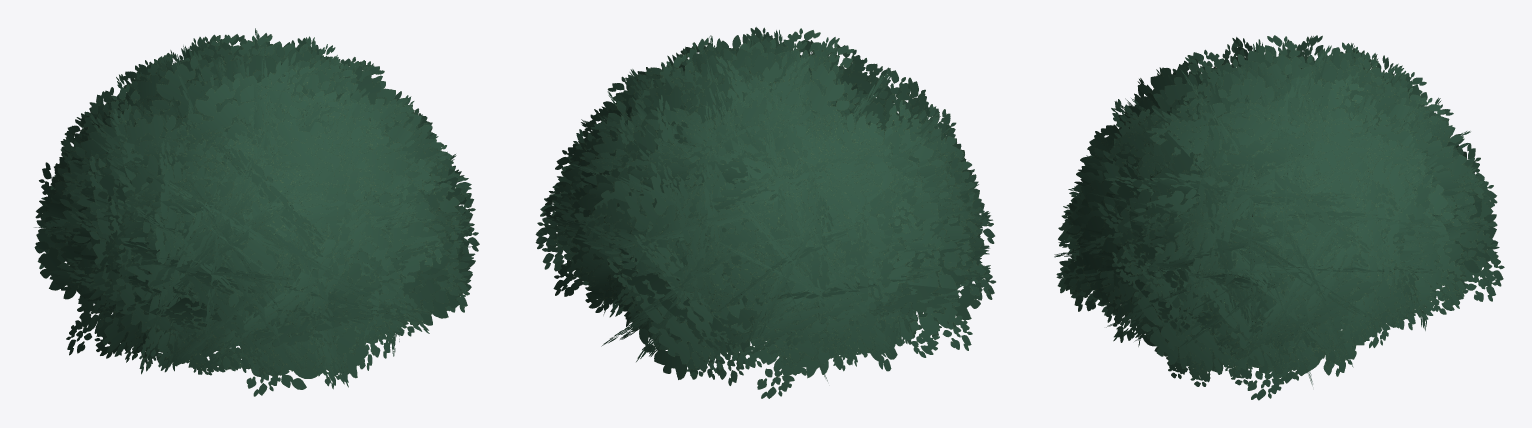
Rendered from SM_Env_BushGreen1.fbx.
3 renders of one model, left to right at view 1: azimuth 30°, elevation 25°; view 2: azimuth 150°, elevation 25°; view 3: azimuth 270°, elevation 25°, orthographic. The views are drawn at different scales.
Visible parts, largest first — view 1: SM_Env_BushGreen1; view 2: SM_Env_BushGreen1; view 3: SM_Env_BushGreen1.
Boxes of the visible parts, x1,y1,x2,y2 form: SM_Env_BushGreen1: (34, 28, 479, 396); SM_Env_BushGreen1: (535, 27, 995, 398); SM_Env_BushGreen1: (1054, 35, 1504, 400).
Size of the model in its own units: 136 by 101 by 136.
